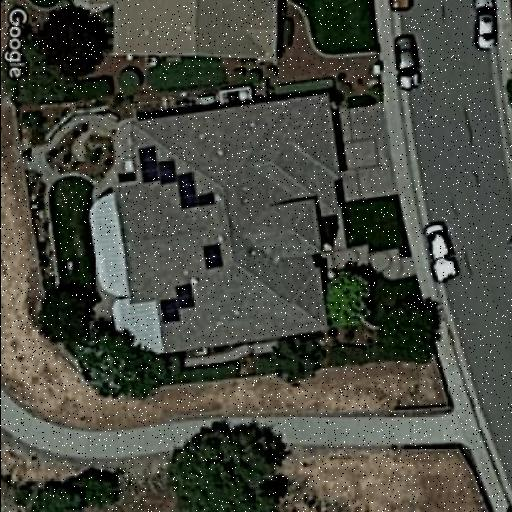solar-panel: (136, 142, 216, 212), (157, 282, 197, 326), (199, 240, 226, 272)
